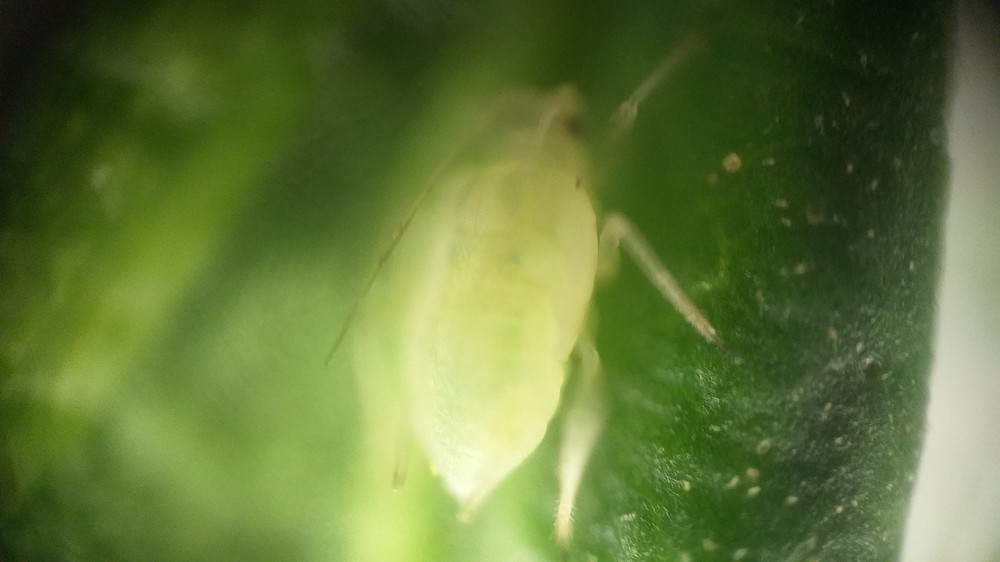Pulgon: (289, 38, 762, 556)
